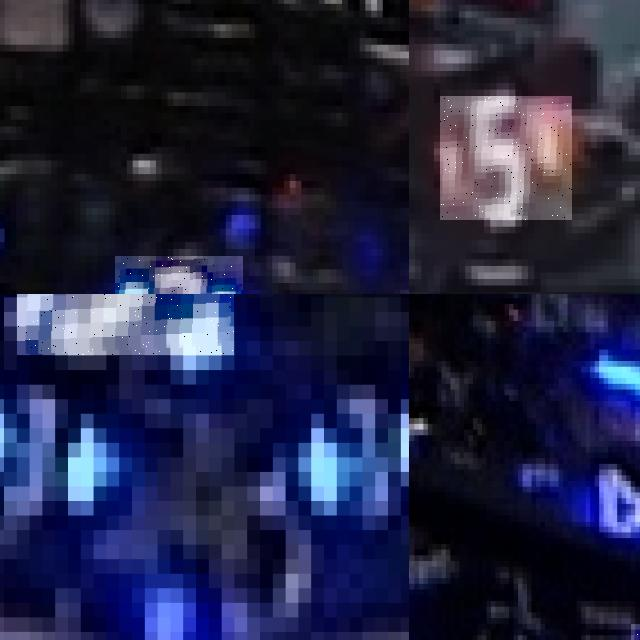B2: (115, 255, 243, 294)
B3: (234, 355, 409, 559), (0, 384, 145, 515), (16, 294, 234, 355)
R5: (440, 96, 572, 220)
